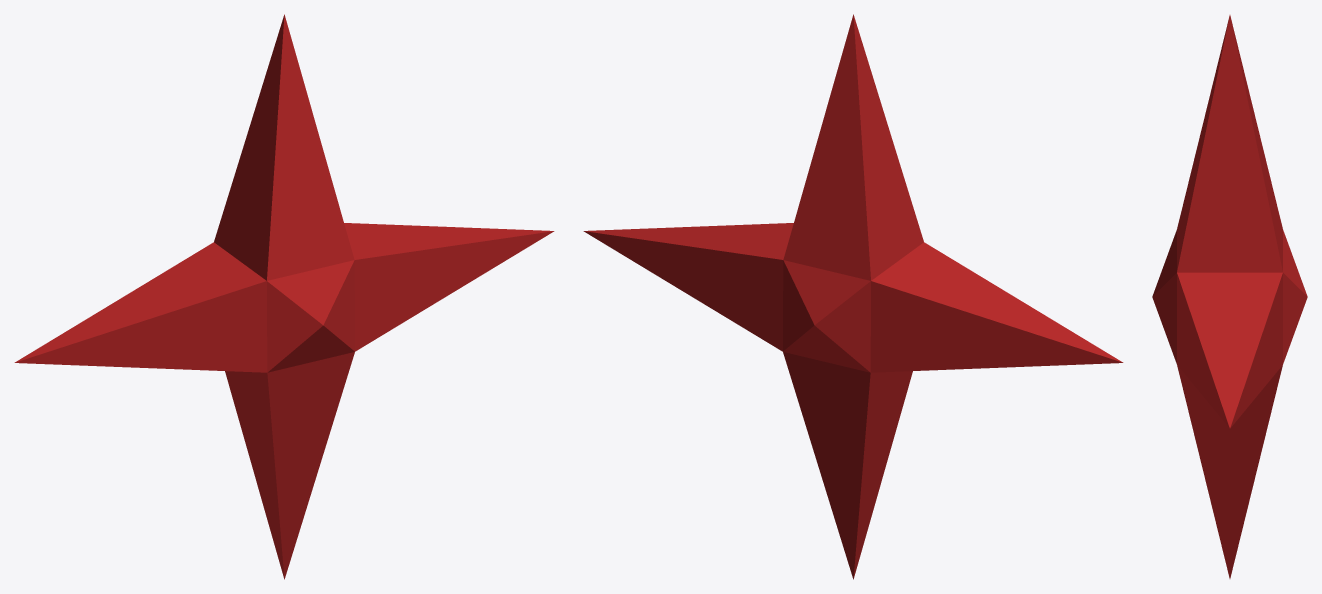
File: ster.obj
The picture shows the model from 3 angles, left to right: view 1: azimuth 30°, elevation 25°; view 2: azimuth 150°, elevation 25°; view 3: azimuth 270°, elevation 25°; orthographic projection.
Visible parts, largest first — view 1: 立方体; view 2: 立方体; view 3: 立方体.
Boxes of the visible parts, left/top/right/bottom form: 立方体: left=14, top=14, right=554, bottom=579; 立方体: left=583, top=14, right=1123, bottom=579; 立方体: left=1152, top=15, right=1307, bottom=578.
Bounding box in the file's own units: 1.11 × 1.11 × 0.2771.
Materials: 1 (1 with a texture image).
